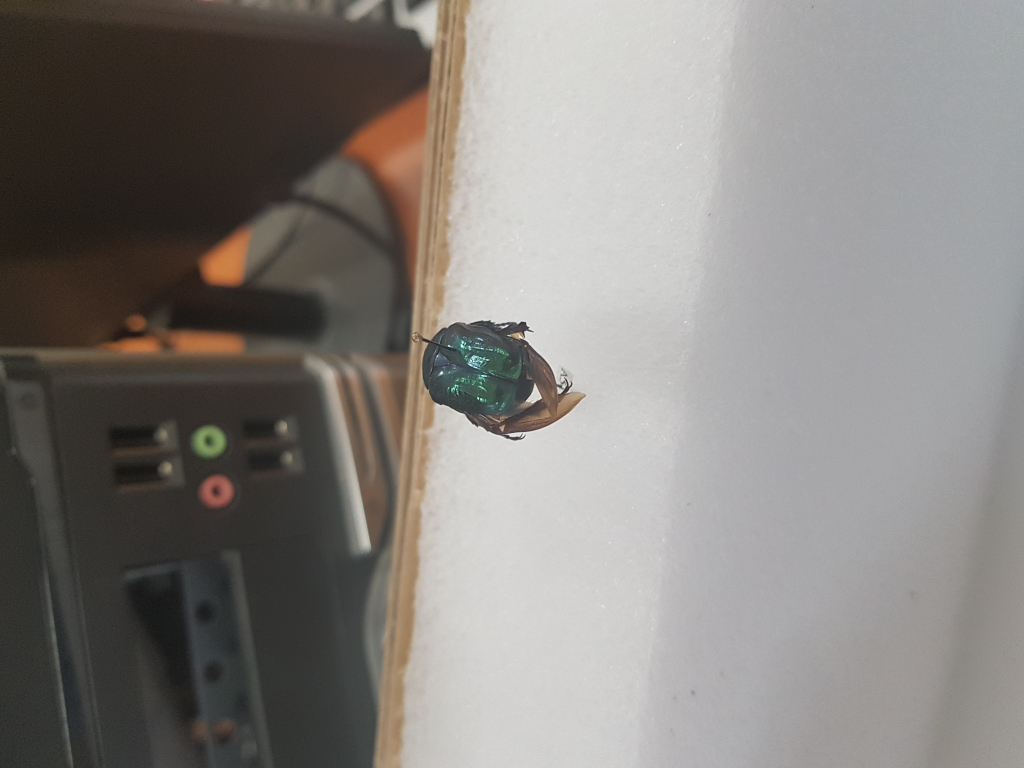Protaetia_angustata_angustata: (408, 315, 596, 445)
